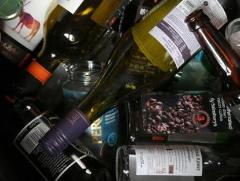glass: (40, 0, 240, 156), (15, 0, 134, 100), (114, 87, 240, 181)
